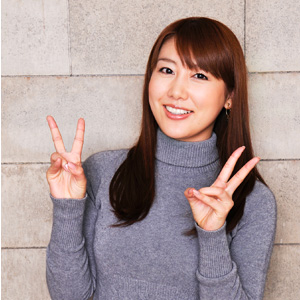face: (149, 35, 234, 139)
hand: (185, 145, 260, 231), (45, 115, 87, 201)
